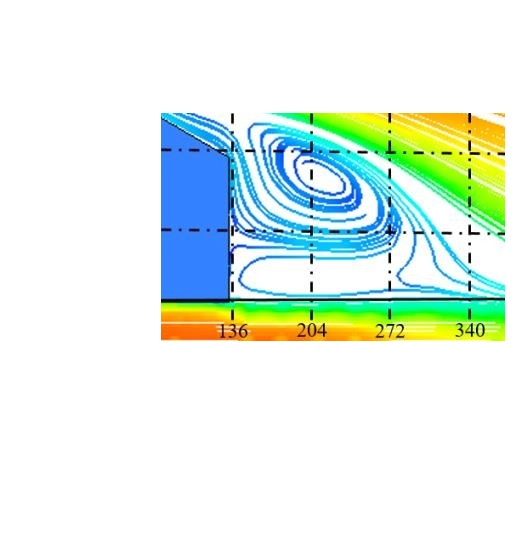vortox: (259, 129, 385, 232)
